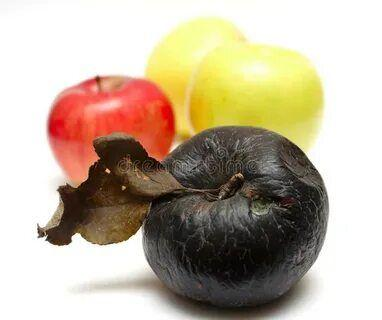Apple: (142, 126, 326, 308)
